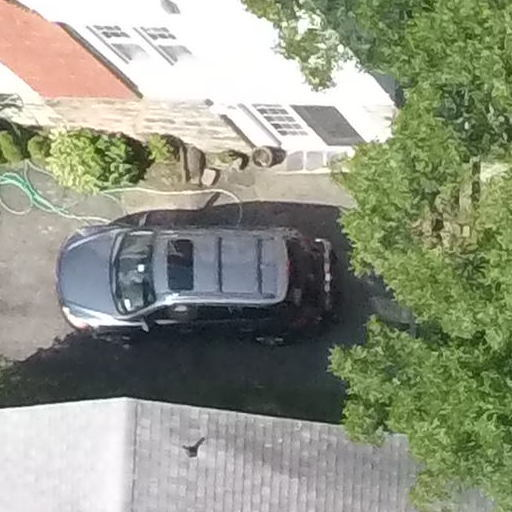car: (33, 206, 358, 355)
container: (249, 143, 277, 173)
